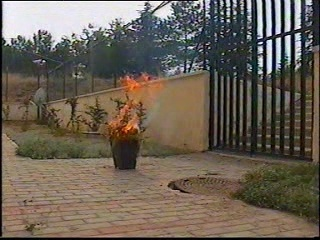fire: (106, 69, 168, 134)
